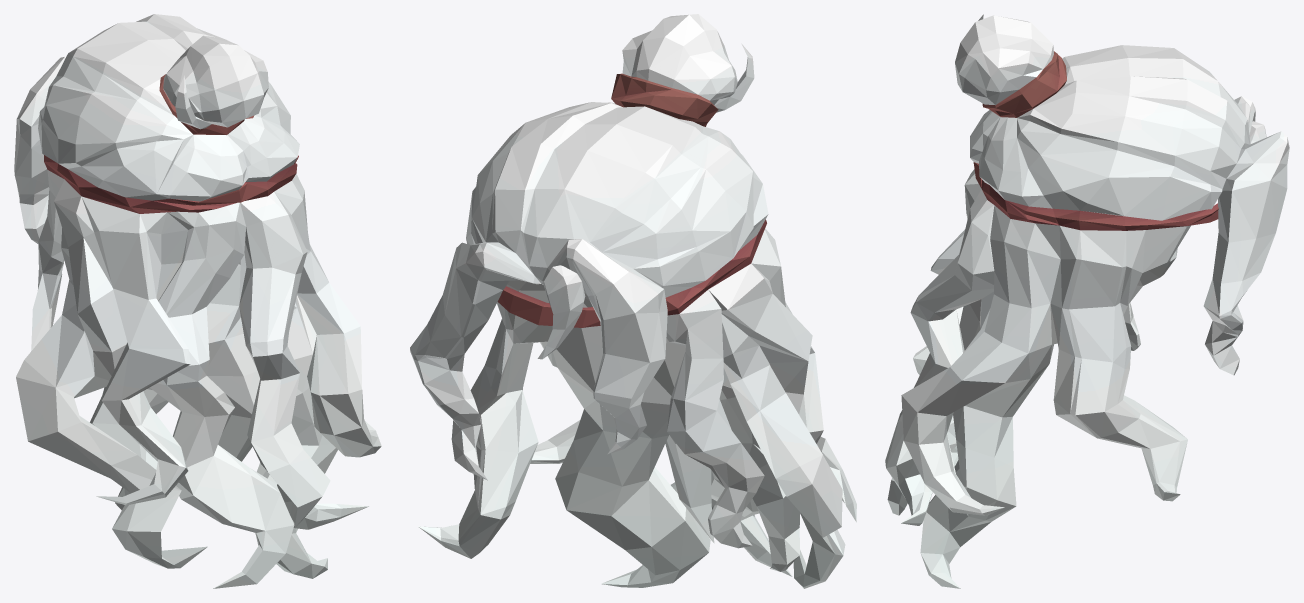
Rendered from CharSkyKid_Hair_AP21HunterBun.glb.
The picture shows the model from 3 angles, left to right: view 1: azimuth 30°, elevation 25°; view 2: azimuth 150°, elevation 25°; view 3: azimuth 270°, elevation 25°; orthographic projection. The views are drawn at different scales.
Visible parts, largest first — view 1: CharSkyKid_Hair_AP21HunterBun; view 2: CharSkyKid_Hair_AP21HunterBun; view 3: CharSkyKid_Hair_AP21HunterBun.
Part boxes in pixels (<box>): CharSkyKid_Hair_AP21HunterBun: <box>14,14,381,588</box>; CharSkyKid_Hair_AP21HunterBun: <box>410,14,856,588</box>; CharSkyKid_Hair_AP21HunterBun: <box>885,14,1289,588</box>.
Size of the model in its own units: 3.71 by 6 by 4.13.
Materials: 1 (1 with a texture image).
